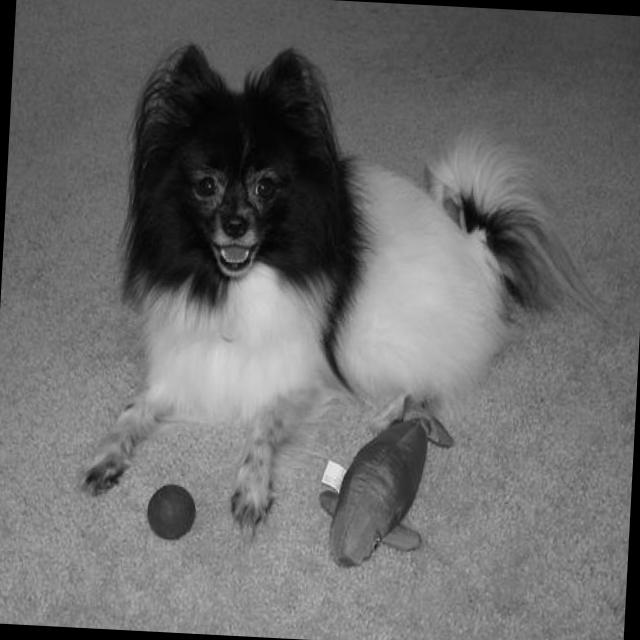laying down: (59, 26, 612, 570)
